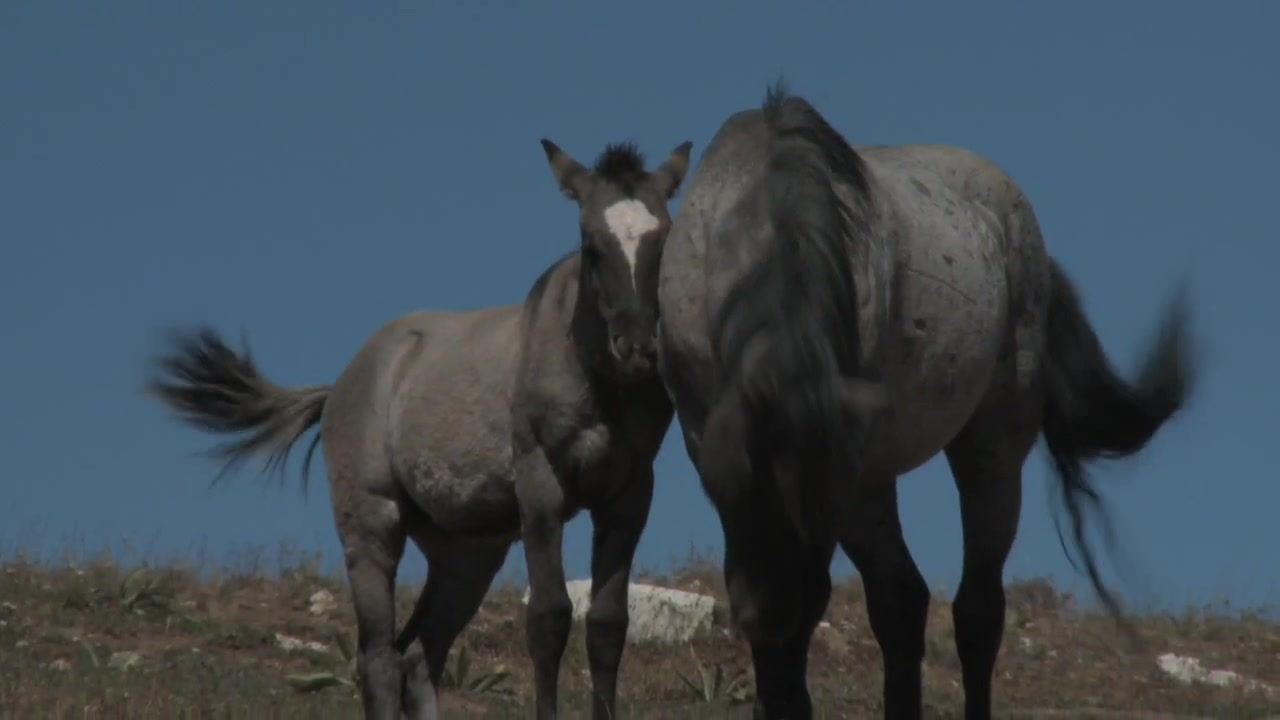horse: (651, 77, 1200, 720), (159, 131, 698, 720)
